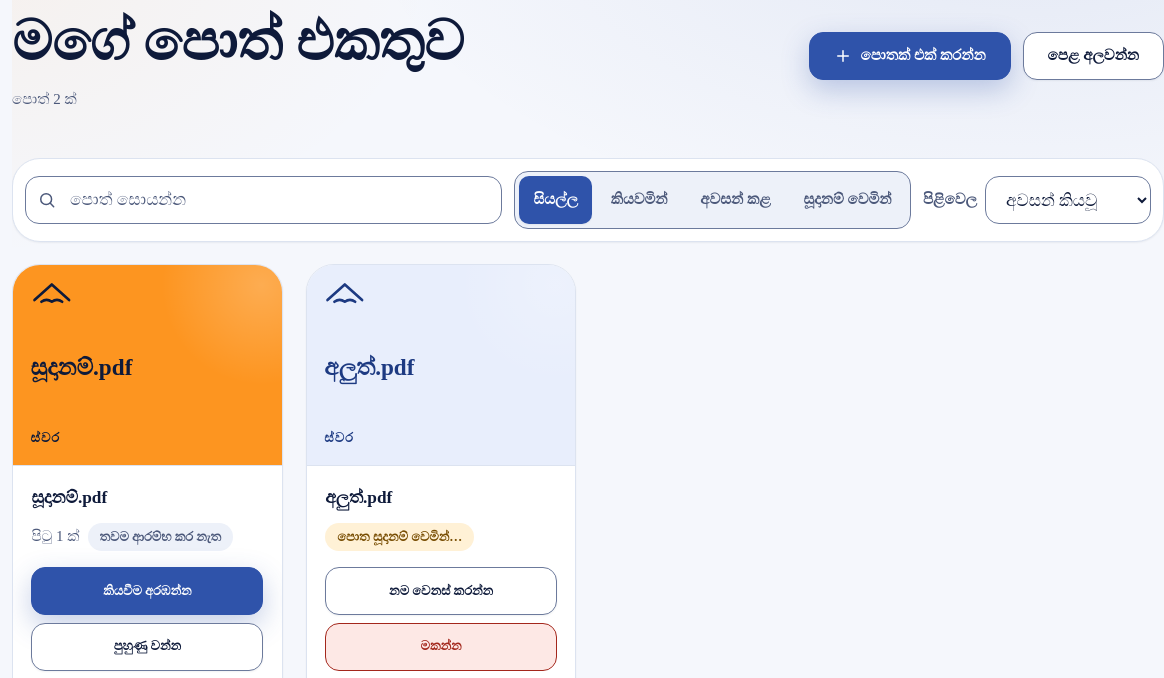
Test: the shelf › filters to what is still being prepared
Expected: the heading "සූදානම්.pdf" is shown, [31,488,107,507]
Click the radio button labelled "සූදානම් වෙමින්".
click(847, 199)  # box [803,191,892,207]
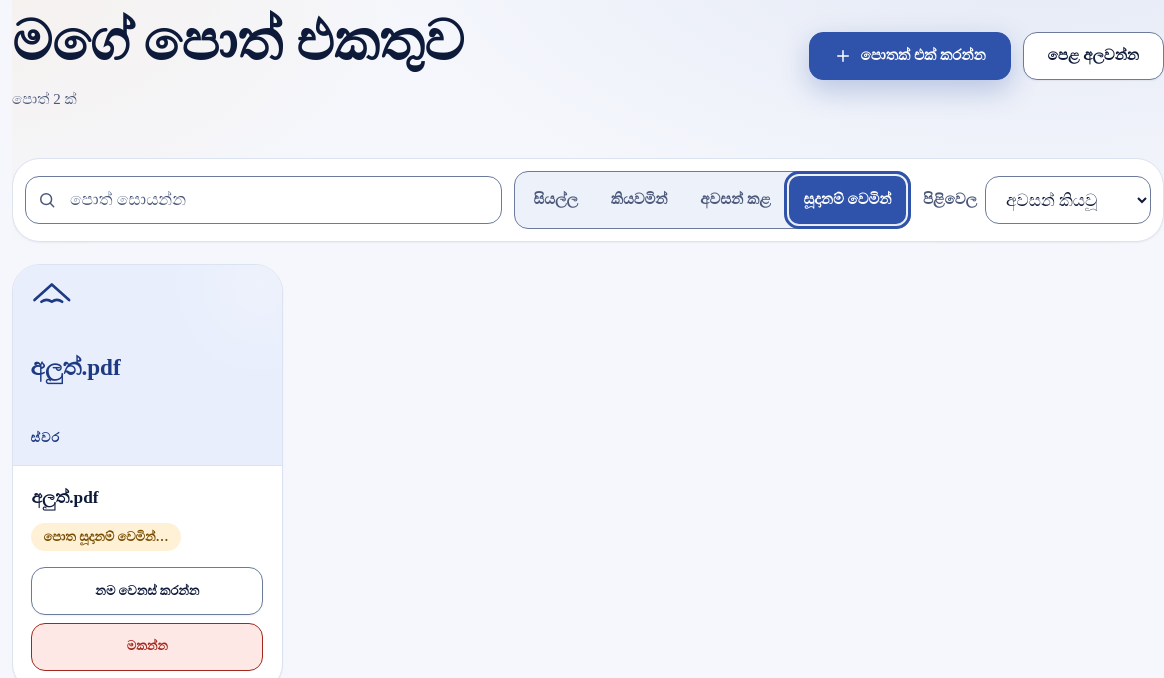
Expected: the heading "අලුත්.pdf" is shown, [31,488,98,507]
Result: the text "සූදානම්.pdf" is gone
